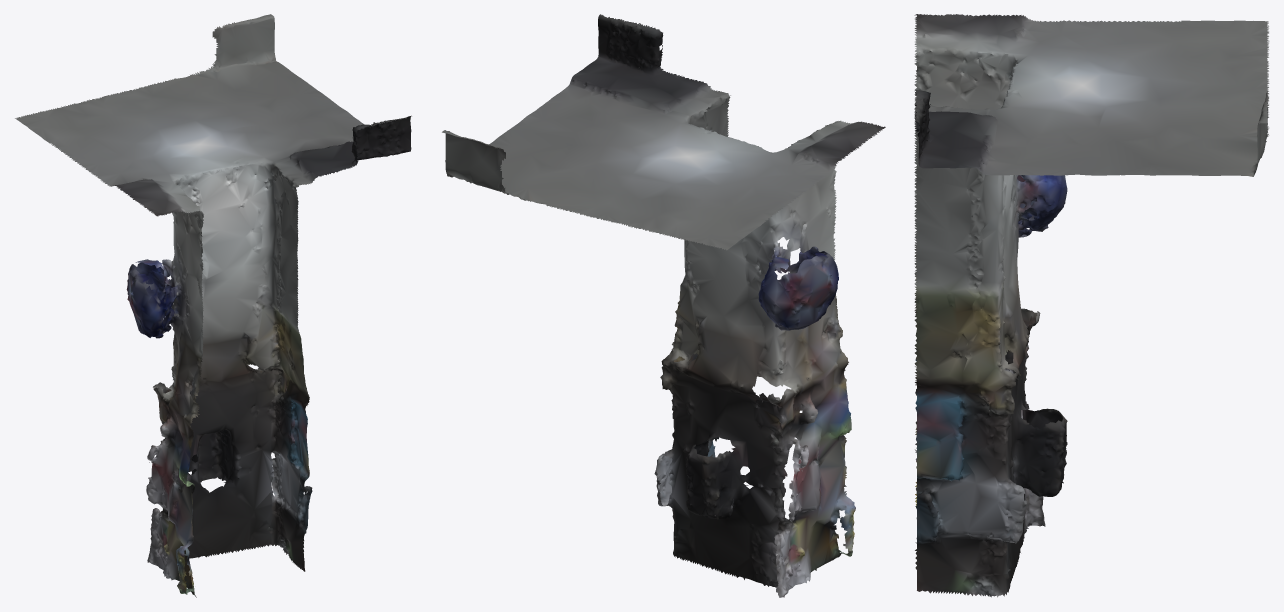
File: medium.glb
3 views of the same model, side by side, from view 1: azimuth 30°, elevation 25°; view 2: azimuth 150°, elevation 25°; view 3: azimuth 270°, elevation 25° (orthographic). The views are drawn at different scales.
Bounding box in the file's own units: 1.22 × 1.97 × 1.18.
